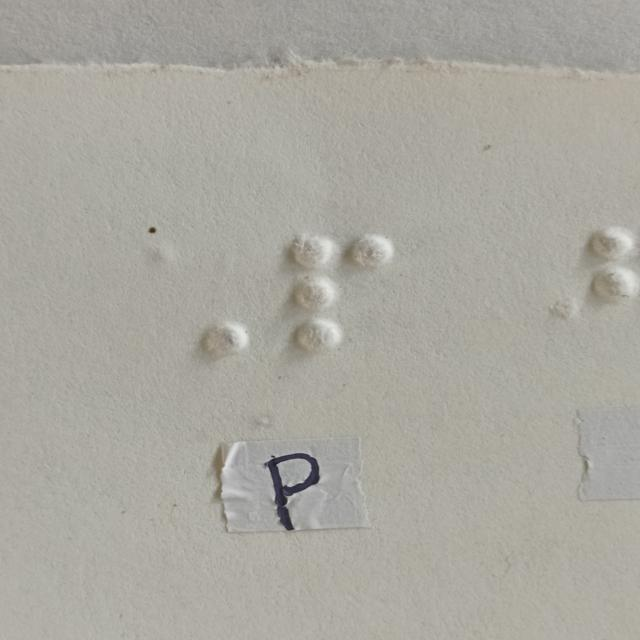capital_sign: (153, 245, 253, 357)
letter_P: (294, 236, 394, 349)
